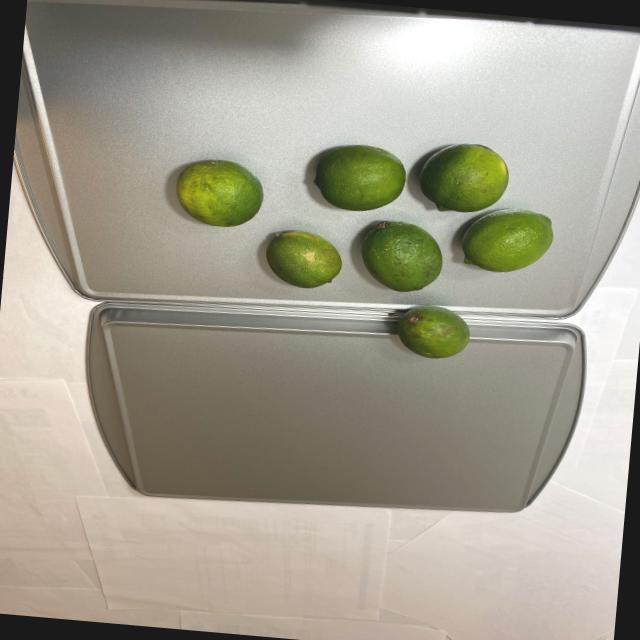lemon: (161, 119, 562, 368)
